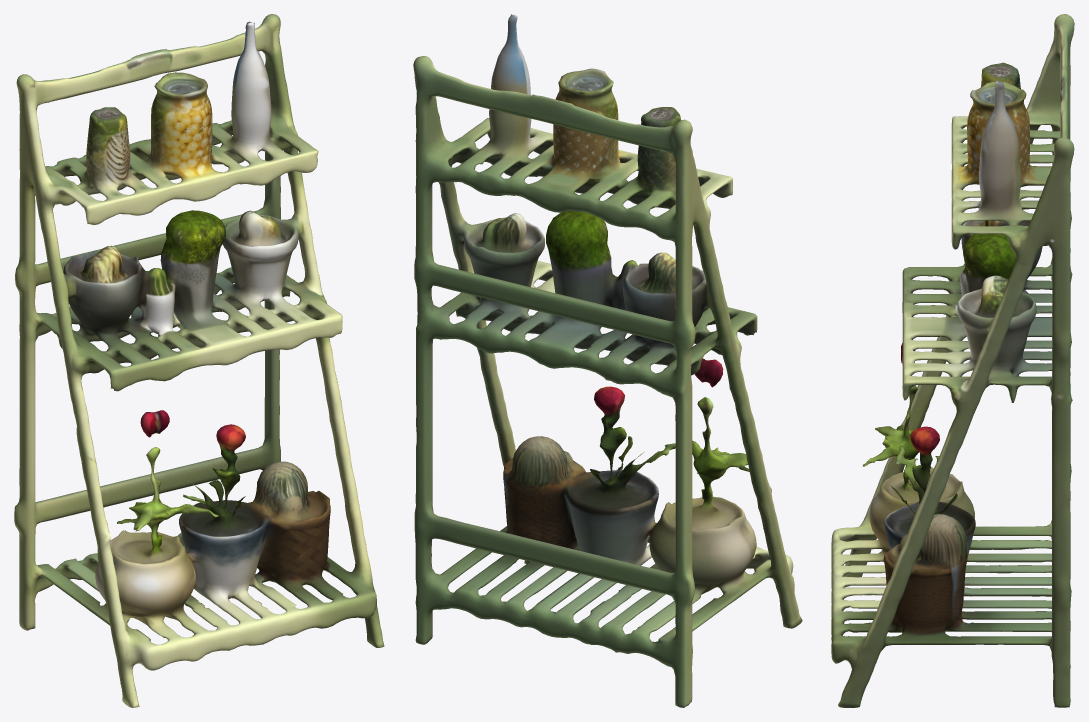
3 renders of one model, left to right at view 1: azimuth 30°, elevation 25°; view 2: azimuth 150°, elevation 25°; view 3: azimuth 270°, elevation 25°, orthographic. The views are drawn at different scales.
Parts seen in each view (by area): view 1: model; view 2: model; view 3: model.
Part boxes in pixels (left/top/right/bottom): model: left=14, top=14, right=384, bottom=707; model: left=413, top=14, right=802, bottom=707; model: left=831, top=14, right=1074, bottom=707.
Size of the model in its own units: 73.36 by 155 by 57.02.
1 material, 1 textured.
